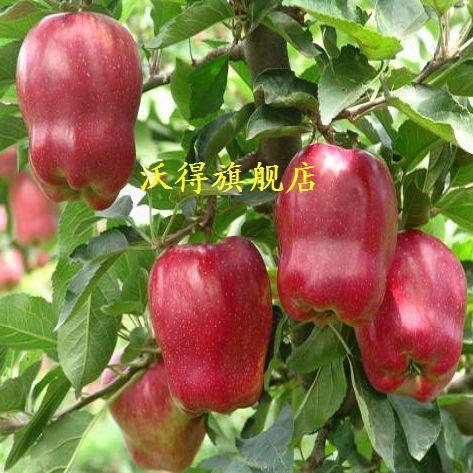apple: (14, 10, 142, 208), (273, 138, 396, 327), (148, 237, 273, 410), (357, 228, 467, 400), (104, 356, 205, 469)
